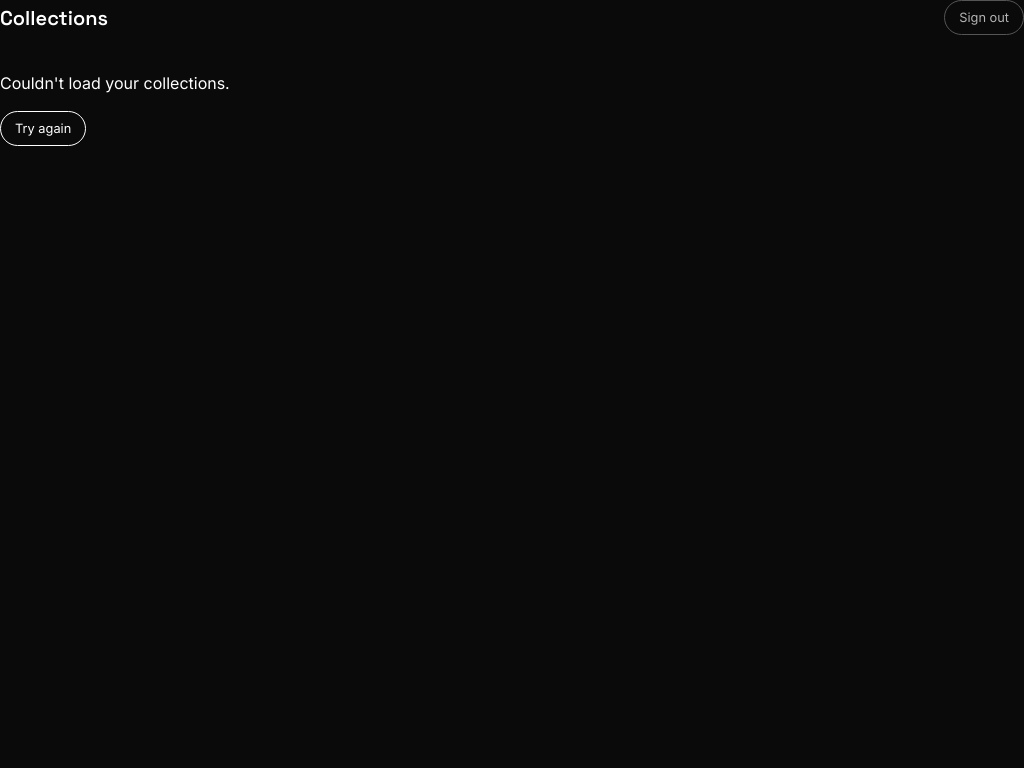
Test case: shows an error with retry when loading fails
Expected: the text "Couldn't load your collections." is shown, 0,73 -> 230,93
Expected: the text "wanted" is not shown
Click the button "Try again".
click(43, 129)  # box 0,111 -> 86,146
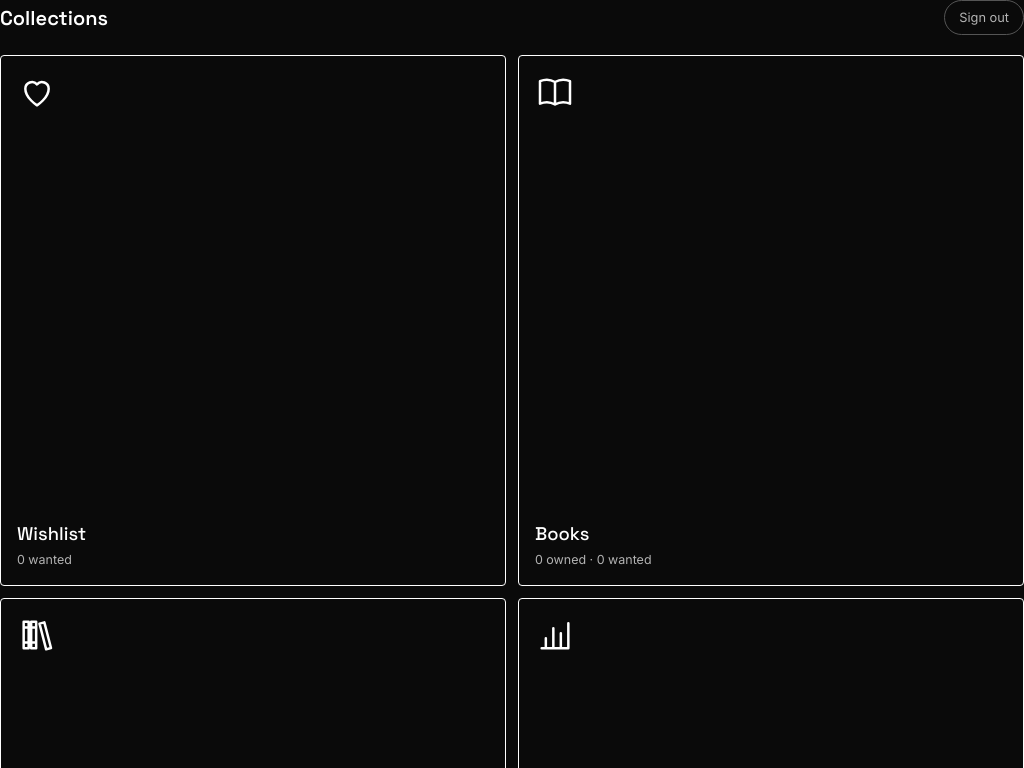
Now the text "0 wanted" is shown, box 17,552 -> 72,567
